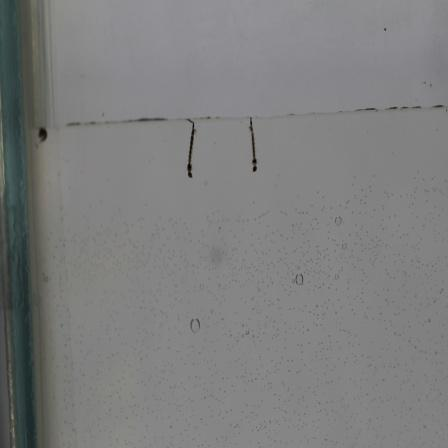Jentik-Nyamuk: (182, 120, 205, 182), (244, 115, 265, 179)
